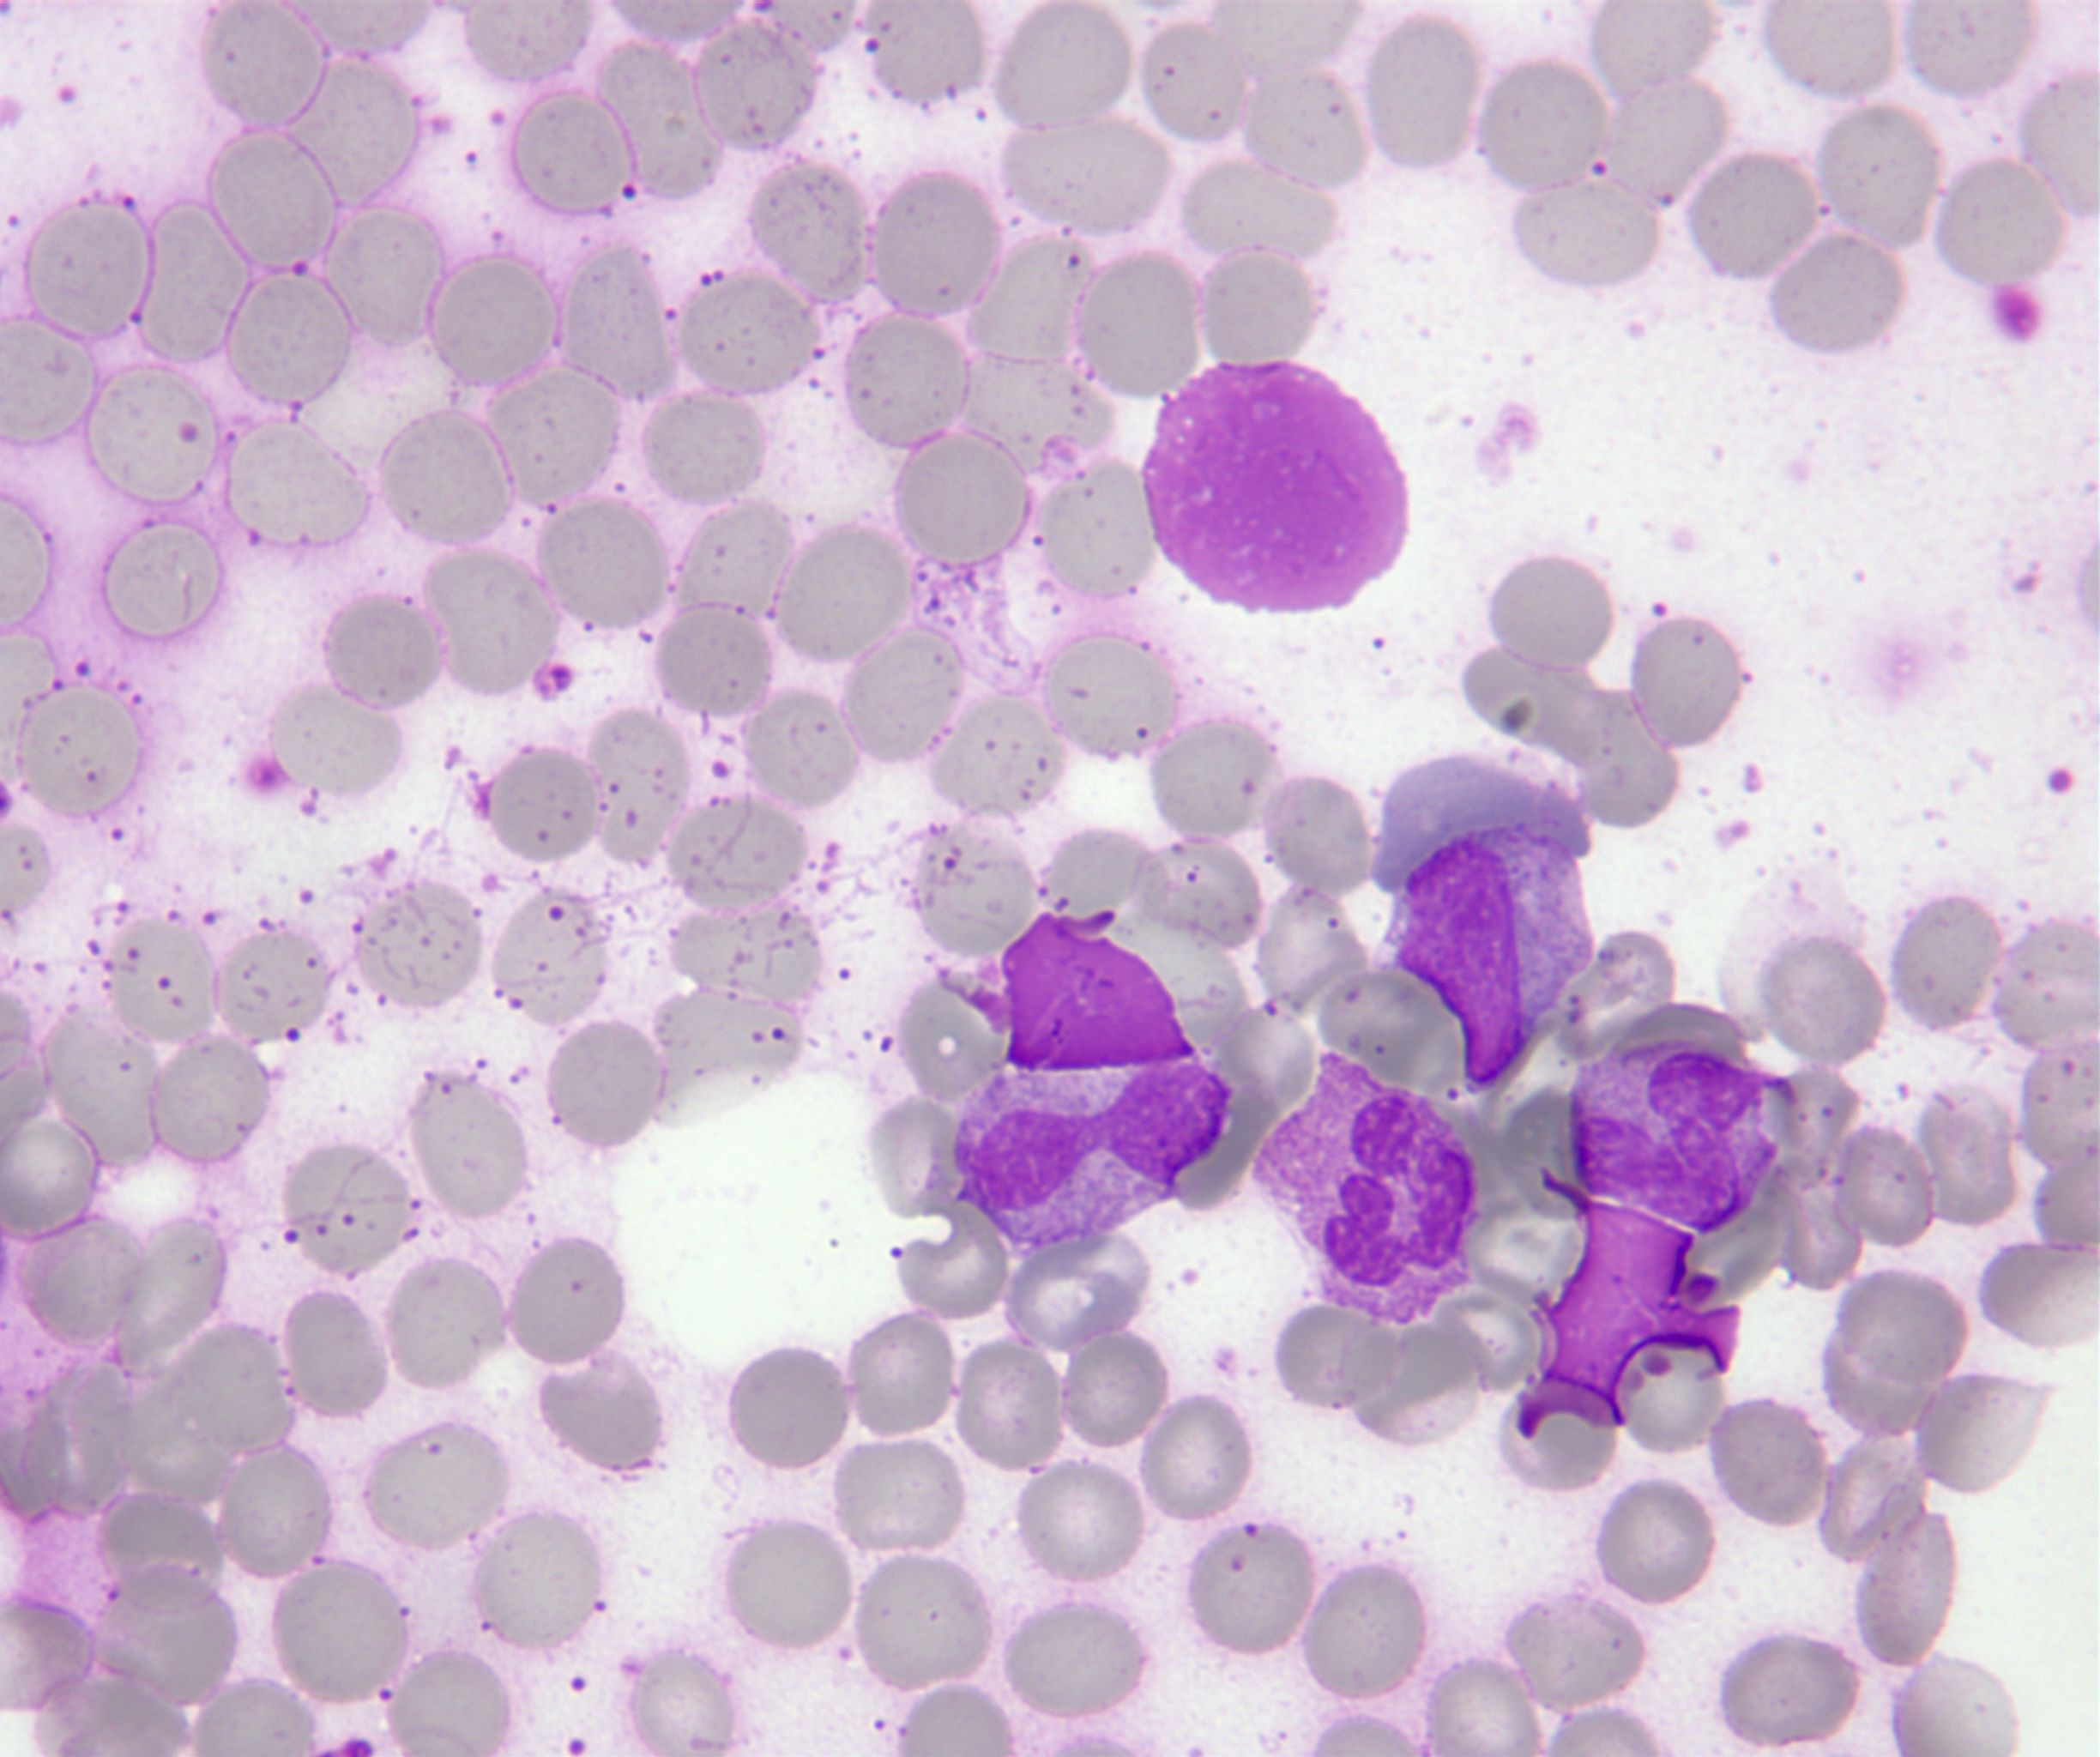4: (1378, 811, 1599, 1094)
5: (944, 1049, 1242, 1256), (1561, 1035, 1797, 1237)
6: (1240, 1047, 1488, 1333)
x: (1137, 356, 1422, 623)
